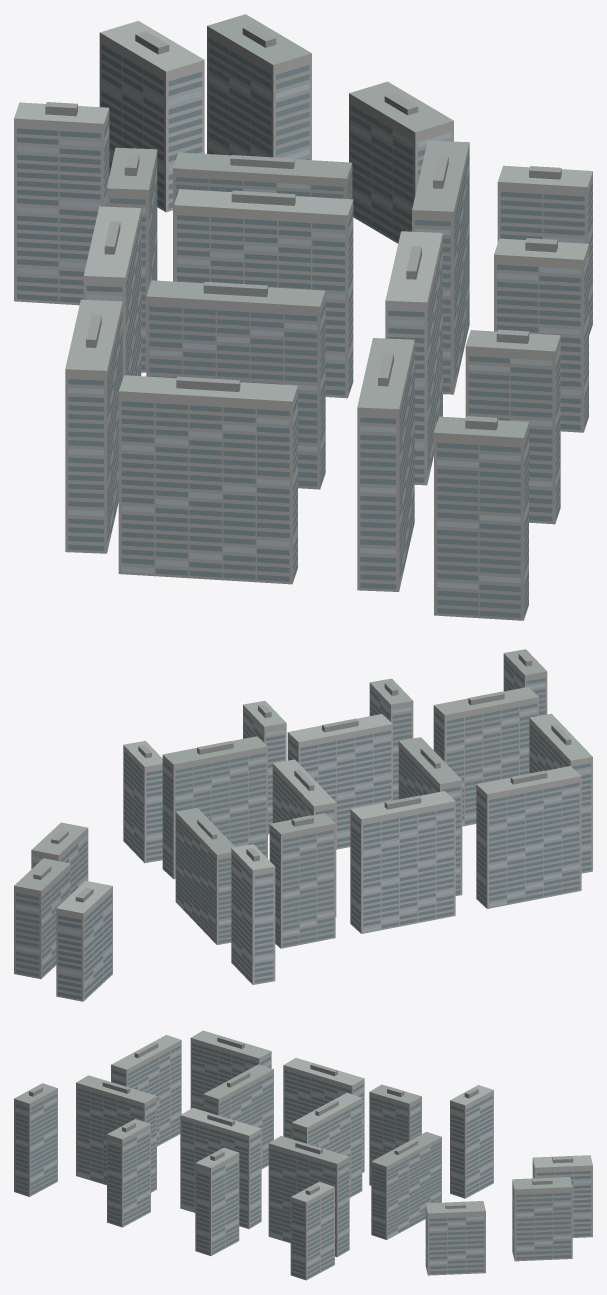
File: apt-a13204205.glb
The picture shows the model from 3 angles, top to bottom: view 1: azimuth 30°, elevation 25°; view 2: azimuth 150°, elevation 25°; view 3: azimuth 270°, elevation 25°; orthographic projection. The views are drawn at different scales.
Visible parts, largest first — view 1: apt-a13204205; view 2: apt-a13204205; view 3: apt-a13204205.
Part boxes in pixels (bbox=[...]): apt-a13204205: bbox=[14, 14, 592, 620]; apt-a13204205: bbox=[14, 649, 592, 1001]; apt-a13204205: bbox=[14, 1030, 592, 1280].
Size of the model in its own units: 197 by 57 by 307.
